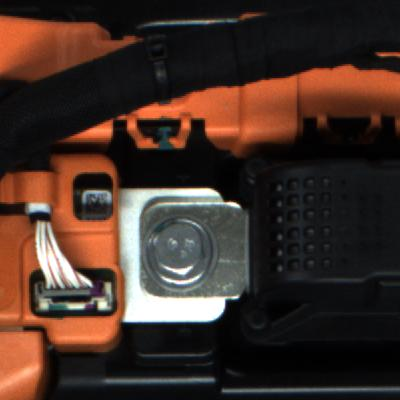nut_b: (139, 215, 219, 293)
